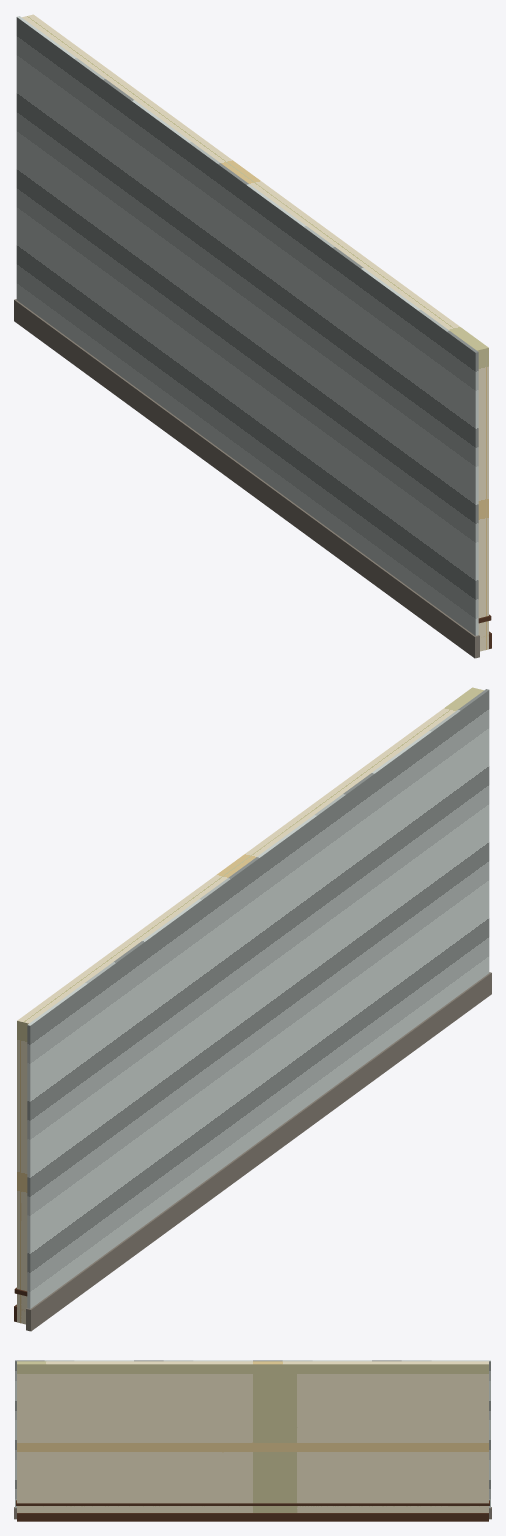
File: left.glb
3 views of the same model, one above another, from view 1: azimuth 30°, elevation 25°; view 2: azimuth 150°, elevation 25°; view 3: azimuth 270°, elevation 25° (orthographic). The views are drawn at different scales.
Visible parts, largest first — view 1: Box3, Box4, Box1; view 2: Box3, Box4, Box1; view 3: Box1, Box2, Box5, Box3, Box6.
Part boxes in pixels (x1,y1,x2,y2): Box3: [16, 16, 478, 635]; Box4: [14, 299, 479, 658]; Box1: [22, 14, 488, 651]; Box3: [27, 689, 489, 1308]; Box4: [26, 972, 491, 1331]; Box1: [17, 687, 483, 1323]; Box1: [17, 1361, 488, 1512]; Box2: [17, 1513, 488, 1521]; Box5: [17, 1506, 488, 1512]; Box3: [15, 1360, 490, 1507]; Box6: [16, 1500, 489, 1505].
Bounding box in the file's own units: 0.25 × 3.64 × 9.97.
4 materials, 2 textured.
